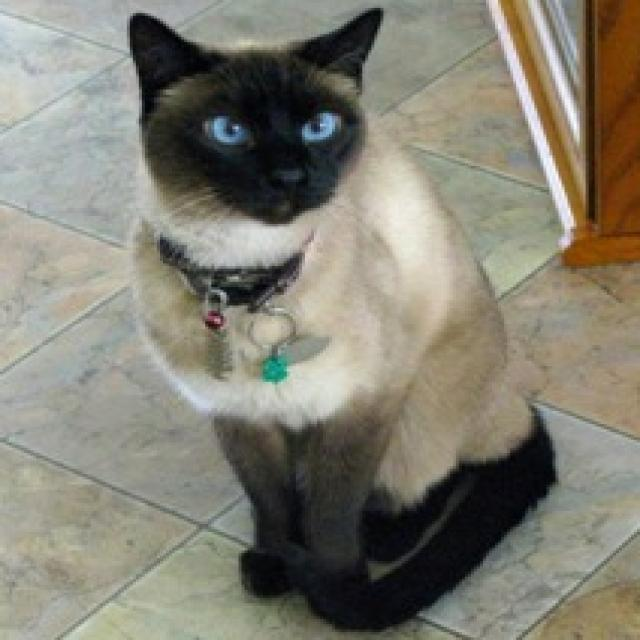Siamese: (118, 3, 564, 638)
